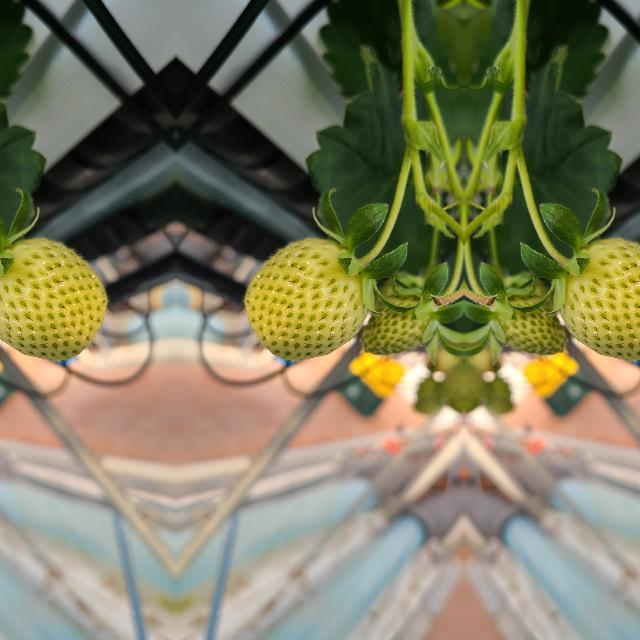Health_25: (244, 238, 370, 360), (0, 238, 105, 360), (556, 238, 640, 360), (354, 282, 441, 364), (486, 282, 572, 364)
